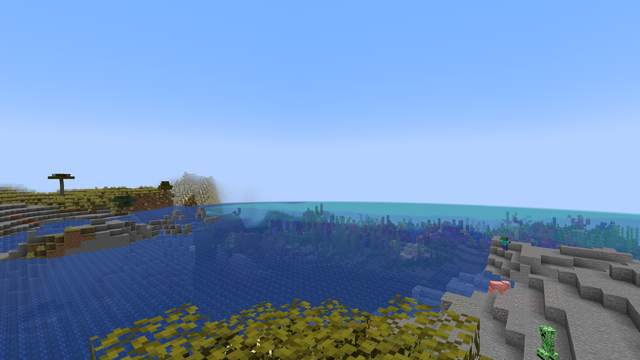cochons: (490, 279, 503, 295)
creepers: (540, 322, 555, 359)
zombies: (502, 237, 507, 251)
